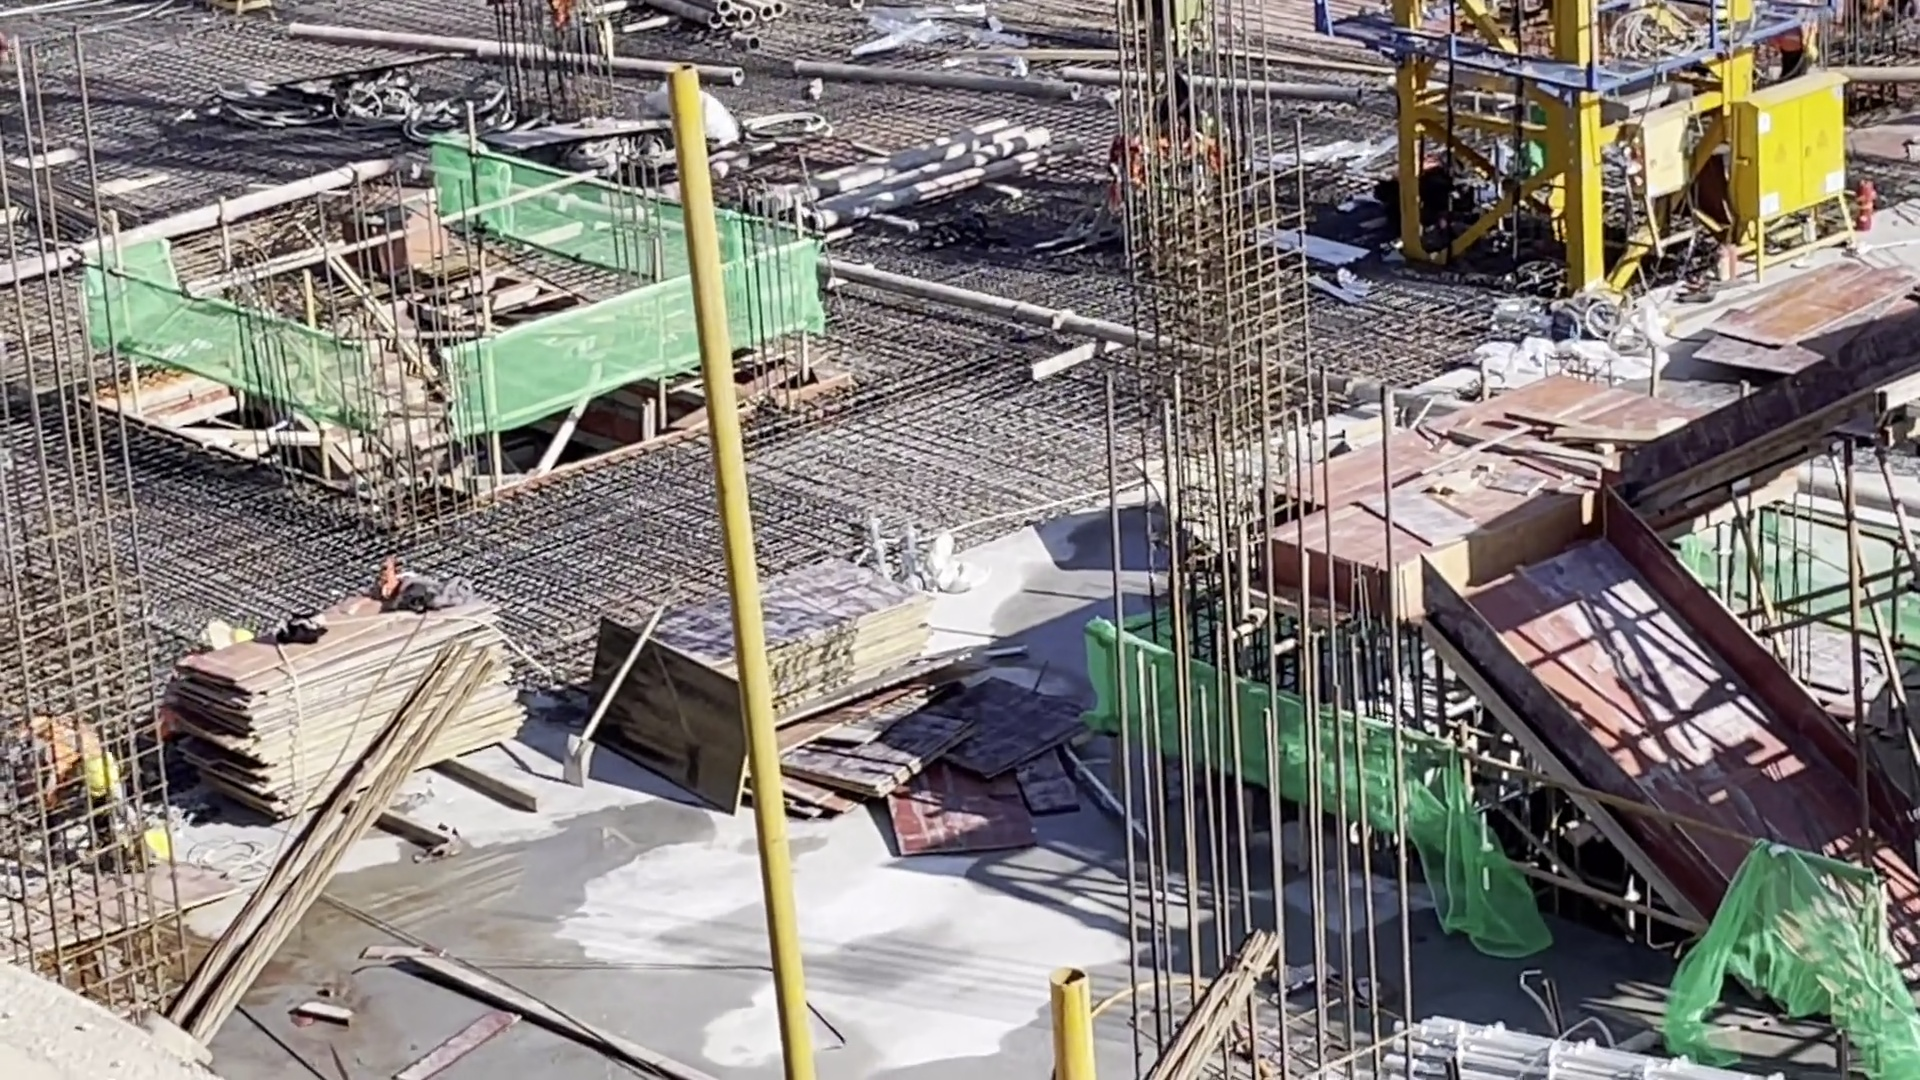board: (177, 580, 522, 818), (634, 556, 927, 761)
ebox: (1717, 63, 1869, 293), (1615, 100, 1709, 261)
handcart: (270, 59, 419, 128)
